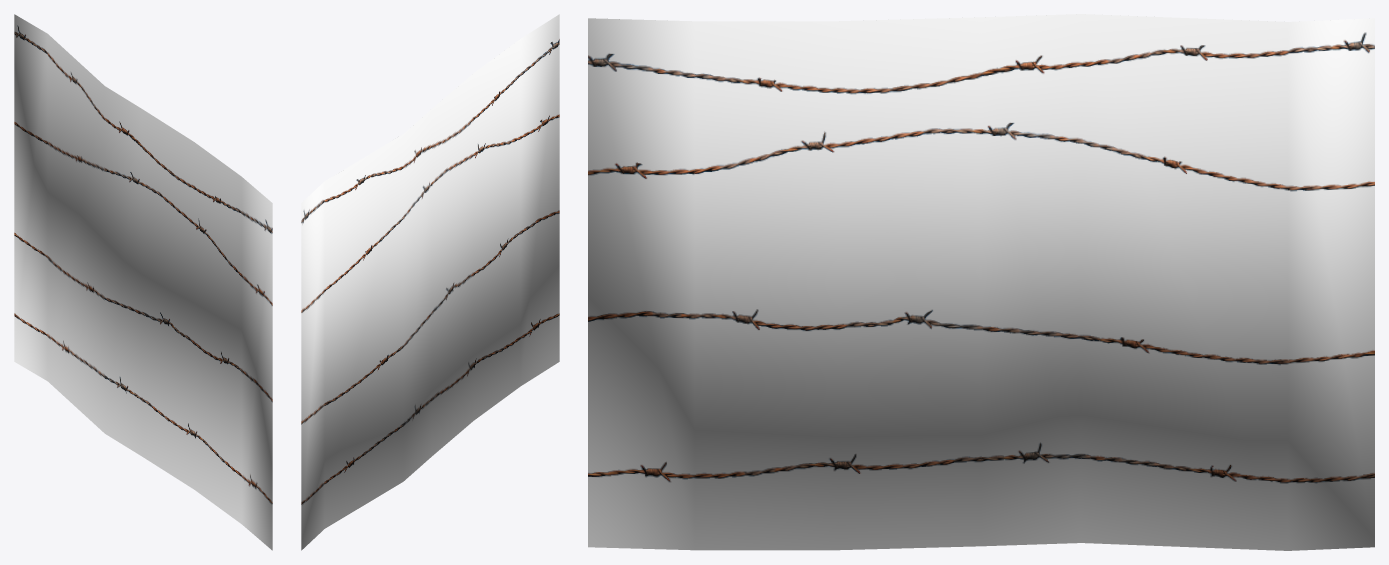
File: Fence_Wire.fbx
3 renders of one model, left to right at view 1: azimuth 30°, elevation 25°; view 2: azimuth 150°, elevation 25°; view 3: azimuth 270°, elevation 25°, orthographic. The views are drawn at different scales.
Parts seen in each view (by area): view 1: Fence_Wire; view 2: Fence_Wire; view 3: Fence_Wire.
Boxes of the visible parts, x1,y1,x2,y2 form: Fence_Wire: (14,14,272,550); Fence_Wire: (301,14,559,550); Fence_Wire: (588,14,1374,550).
Size of the model in its own units: 4.56 by 141 by 190.
